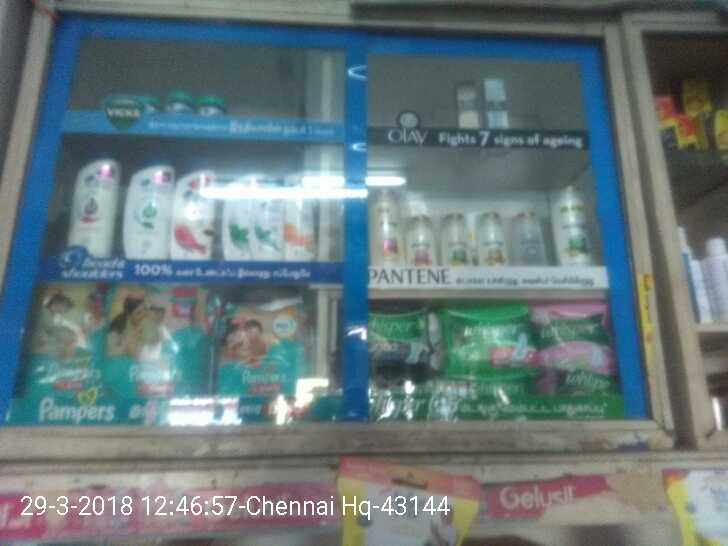vicks: (140, 86, 232, 119)
